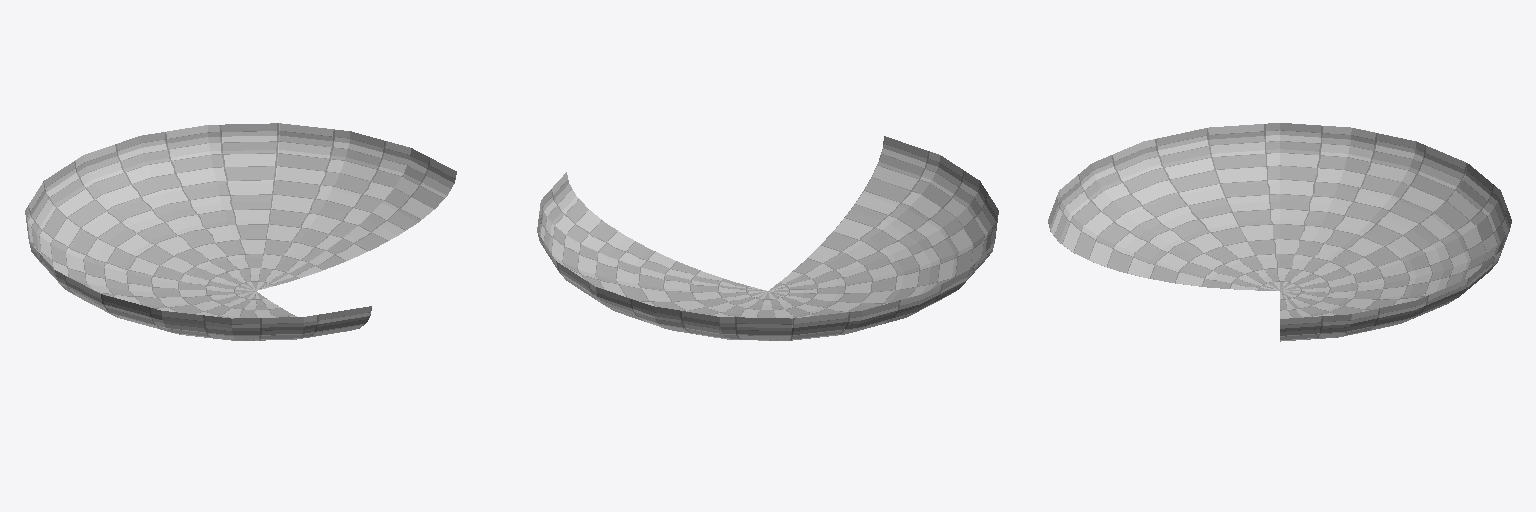
3 renders of one model, left to right at view 1: azimuth 30°, elevation 25°; view 2: azimuth 150°, elevation 25°; view 3: azimuth 270°, elevation 25°, orthographic.
Visible parts, largest first — view 1: pSphere1; view 2: pSphere1; view 3: pSphere1.
Boxes of the visible parts, <box> form: pSphere1: <box>25,123,456,340</box>; pSphere1: <box>537,136,998,340</box>; pSphere1: <box>1048,123,1511,341</box>.
Size of the model in its own units: 120 by 20 by 120.
Materials: 1 (1 with a texture image).